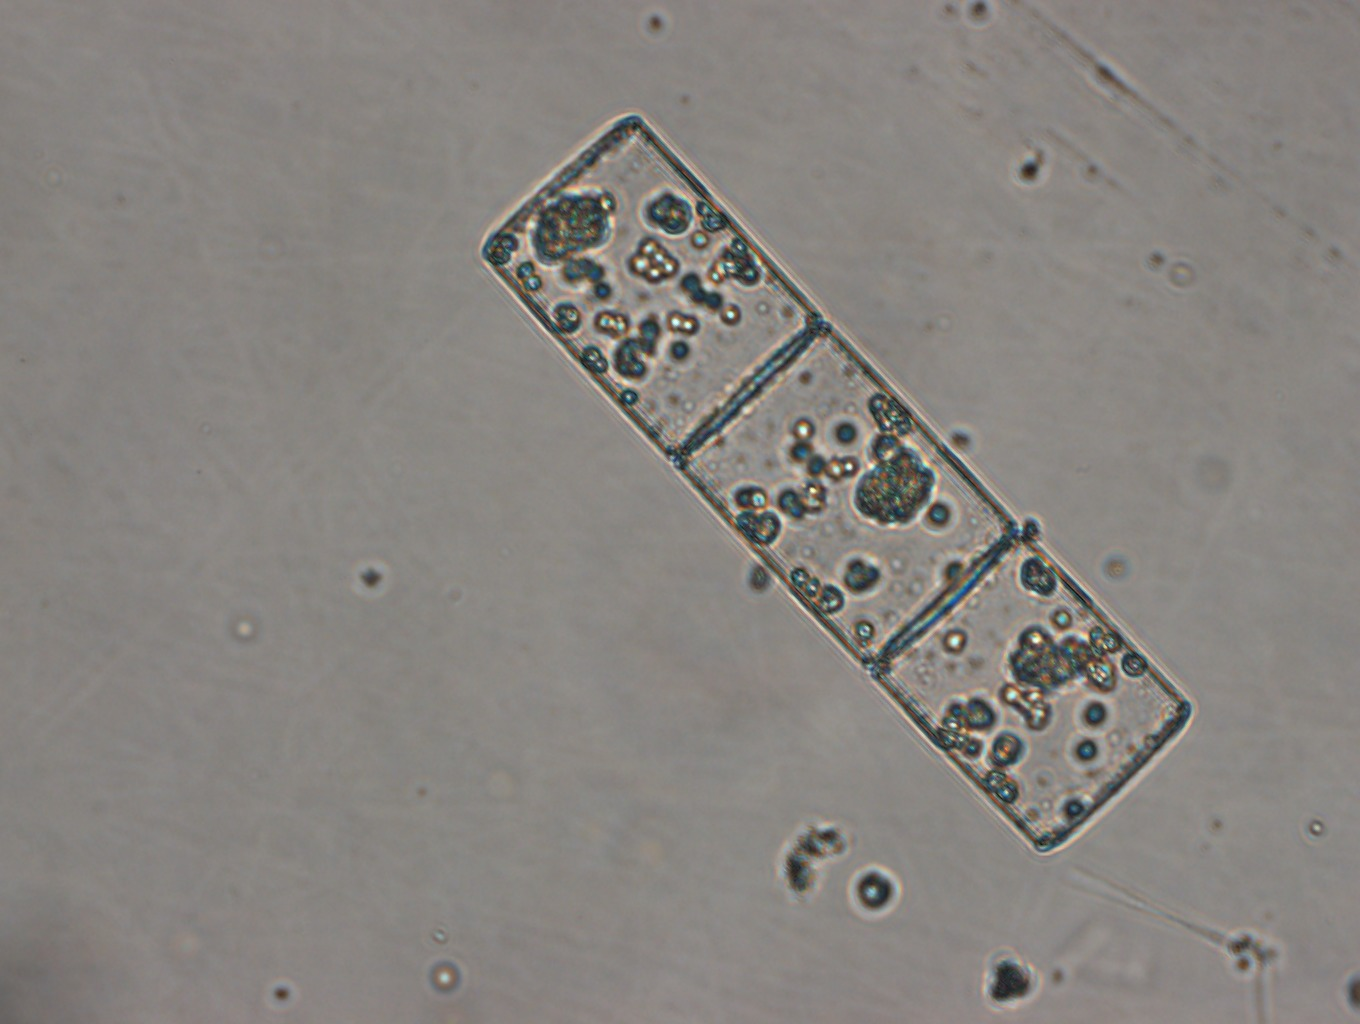guinardia flaccida: (471, 103, 1198, 861)
